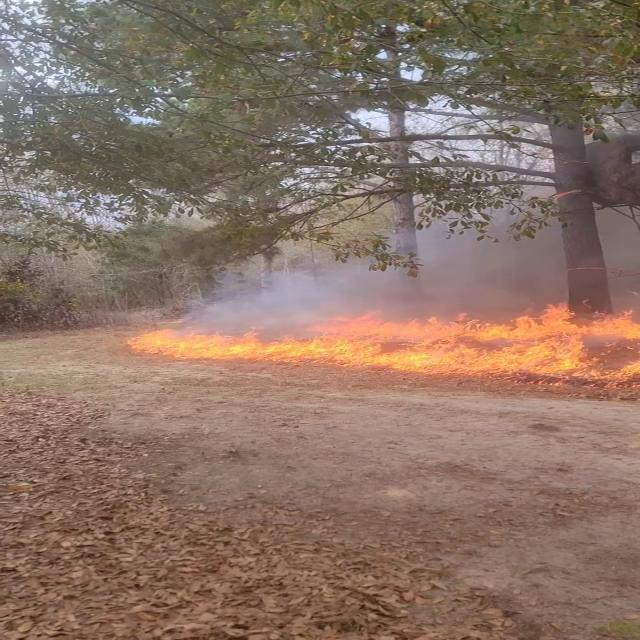Fire: (130, 307, 640, 373)
Smoke: (238, 198, 640, 316)
